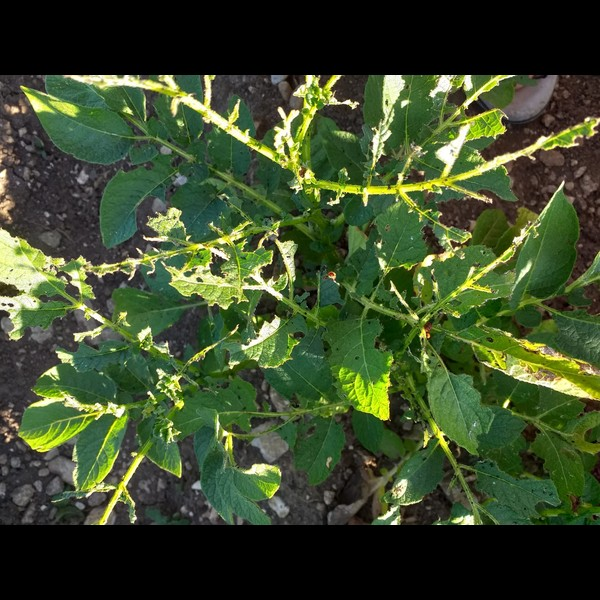hrosc: (326, 269, 338, 280)
